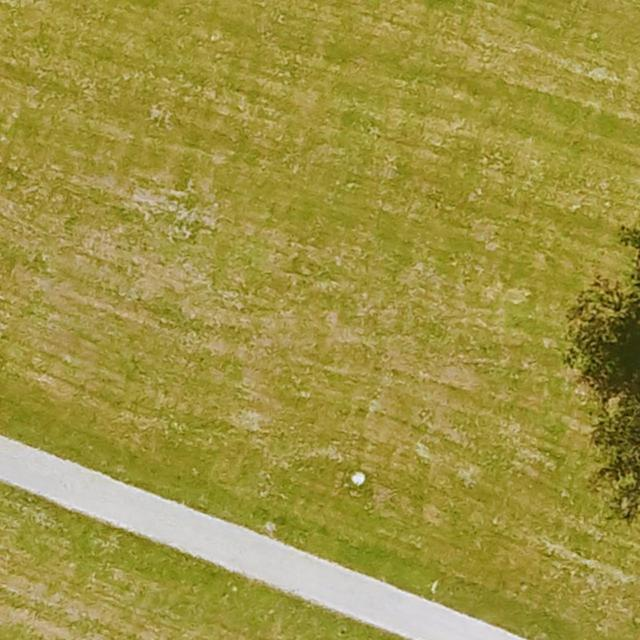tree: (586, 366, 640, 524)
